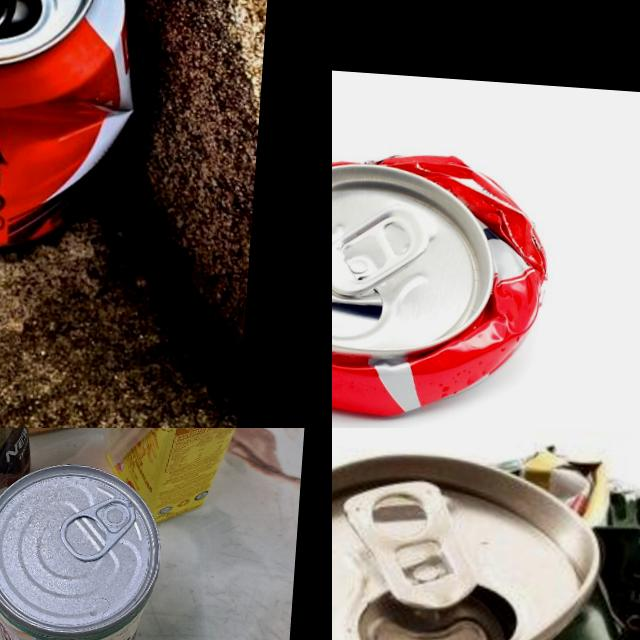aba de lata: (338, 474, 484, 611), (332, 200, 430, 302), (58, 493, 137, 567)
caixinha: (104, 428, 268, 526)
lata: (332, 428, 640, 640), (332, 137, 556, 428), (0, 0, 149, 259), (0, 459, 167, 640)
